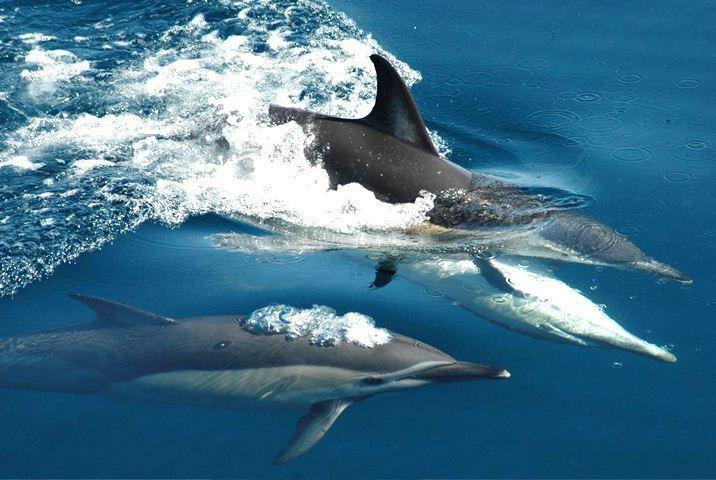fish: (230, 51, 694, 291), (3, 288, 512, 464)
